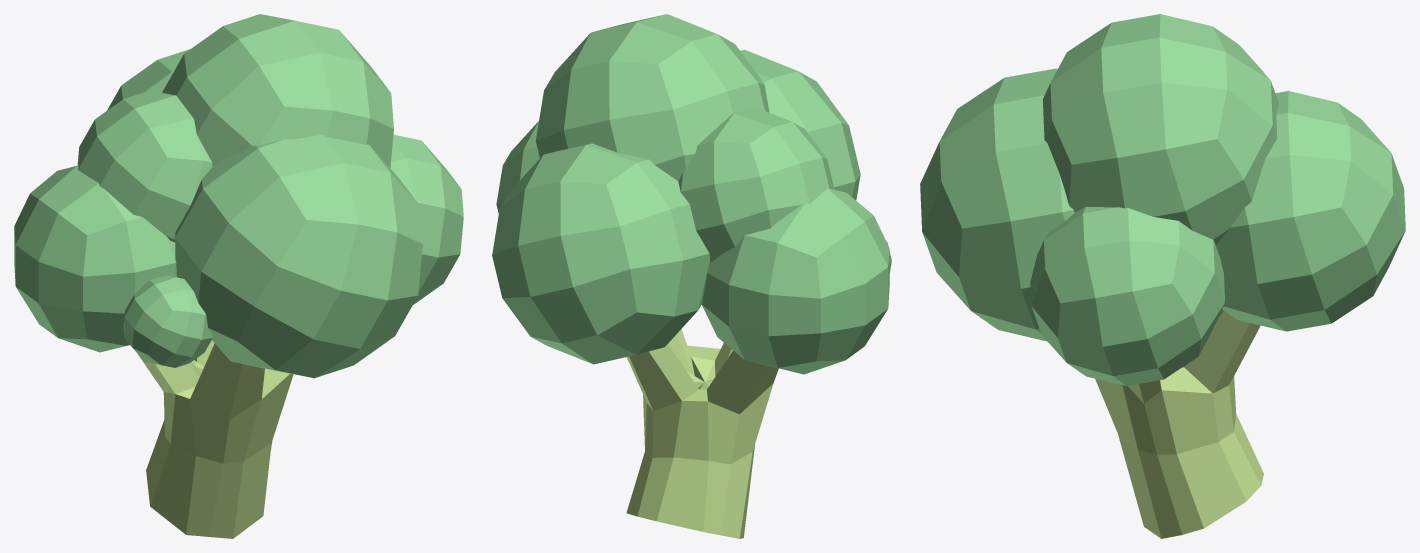
File: broccoli.gltf
3 views of the same model, side by side, from view 1: azimuth 30°, elevation 25°; view 2: azimuth 150°, elevation 25°; view 3: azimuth 270°, elevation 25° (orthographic). The views are drawn at different scales.
Parts seen in each view (by area): view 1: node-0; view 2: node-0; view 3: node-0.
Boxes of the visible parts, x1,y1,x2,y2 form: node-0: [14, 14, 463, 538]; node-0: [492, 14, 891, 538]; node-0: [920, 14, 1405, 538].
Size of the model in its own units: 8.79 by 10.51 by 8.81.
